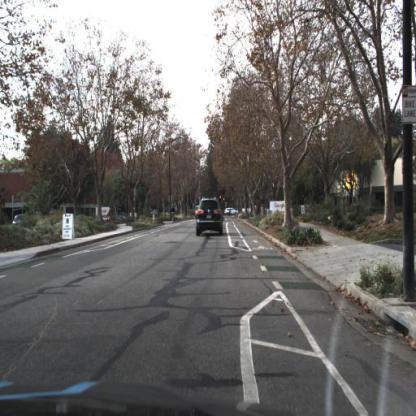biker: (172, 207, 177, 223)
car: (196, 195, 226, 239)
pedestrian: (107, 212, 112, 222)
